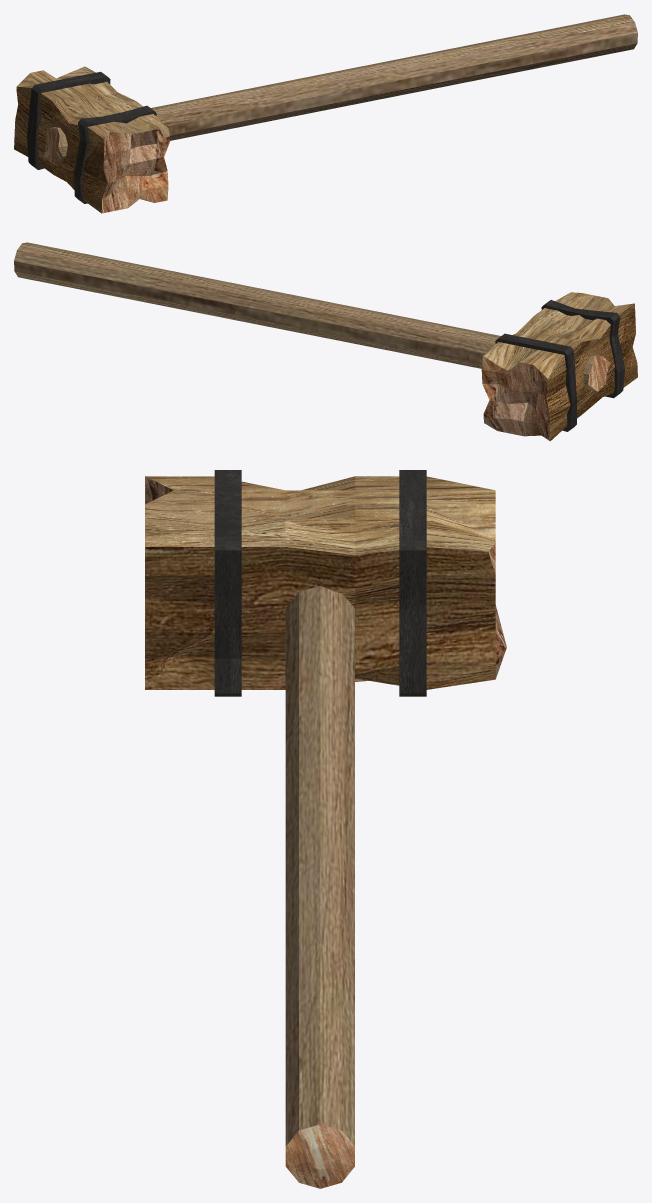
File: WorldItem_PostMaul.fbx
The picture shows the model from 3 angles, top to bottom: view 1: azimuth 30°, elevation 25°; view 2: azimuth 150°, elevation 25°; view 3: azimuth 270°, elevation 25°; orthographic projection. The views are drawn at different scales.
Parts seen in each view (by area): view 1: ZomboidPostMaul; view 2: ZomboidPostMaul; view 3: ZomboidPostMaul.
Part boxes in pixels (x1,y1,x2,y2): ZomboidPostMaul: (14,14,637,213); ZomboidPostMaul: (14,242,637,441); ZomboidPostMaul: (145,470,506,1188).
Size of the model in its own units: 0.6633 by 0.0918 by 0.1785.
